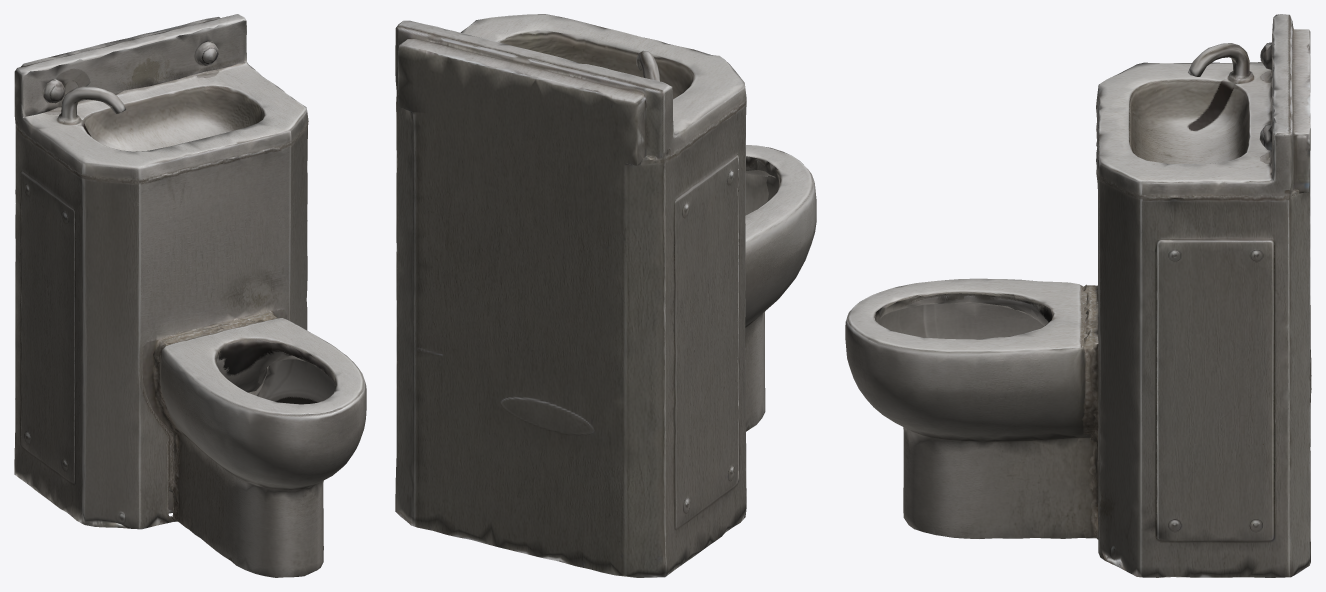
Rendered from S1_SanitaryUnit.fbx.
3 views of the same model, side by side, from view 1: azimuth 30°, elevation 25°; view 2: azimuth 150°, elevation 25°; view 3: azimuth 270°, elevation 25° (orthographic). The views are drawn at different scales.
Visible parts, largest first — view 1: S1_SanitaryUnit_LOD0; view 2: S1_SanitaryUnit_LOD0; view 3: S1_SanitaryUnit_LOD0.
Boxes of the visible parts, x1,y1,x2,y2 form: S1_SanitaryUnit_LOD0: (14,14,366,577); S1_SanitaryUnit_LOD0: (395,14,816,577); S1_SanitaryUnit_LOD0: (845,14,1311,577).
Size of what is drawn, in the model's own units: 56.67 by 95 by 89.92.
